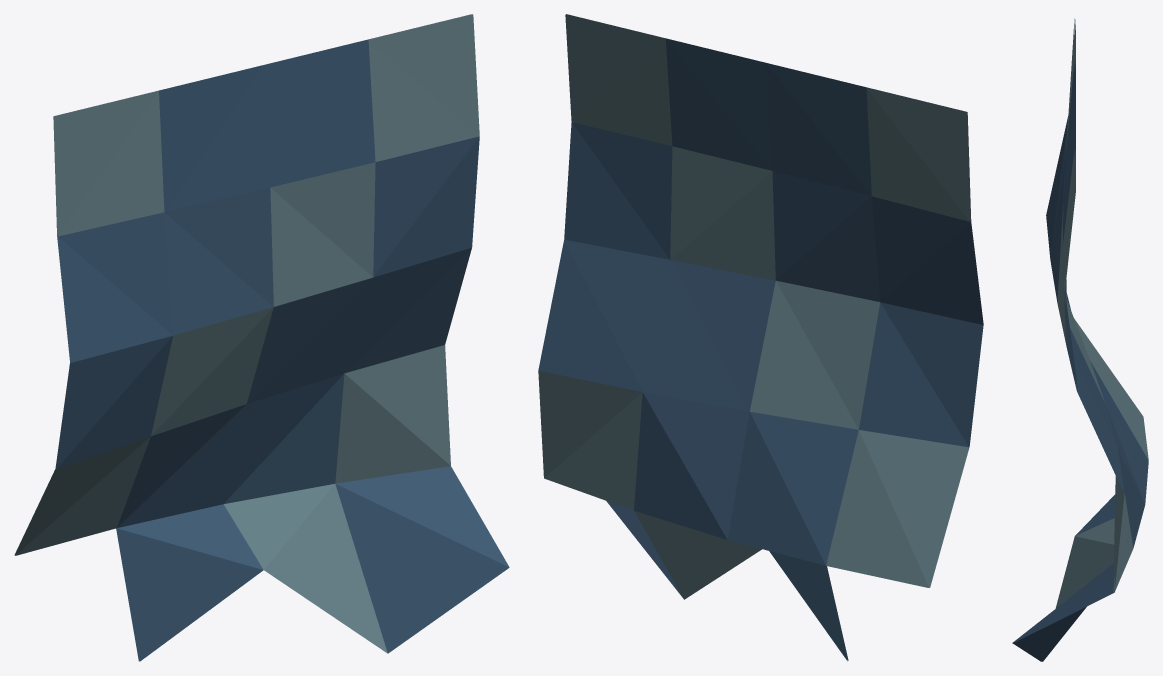
File: plastic_flap_f2.glb
3 renders of one model, left to right at view 1: azimuth 30°, elevation 25°; view 2: azimuth 150°, elevation 25°; view 3: azimuth 270°, elevation 25°, orthographic. The views are drawn at different scales.
Visible parts, largest first — view 1: plastic_flap_f2; view 2: plastic_flap_f2; view 3: plastic_flap_f2.
Boxes of the visible parts, x1,y1,x2,y2 form: plastic_flap_f2: (14, 14, 509, 661); plastic_flap_f2: (538, 14, 983, 661); plastic_flap_f2: (1012, 18, 1148, 661).
Size of the model in its own units: 1.2 by 1.64 by 0.3937.
Materials: 2 (2 with a texture image).
